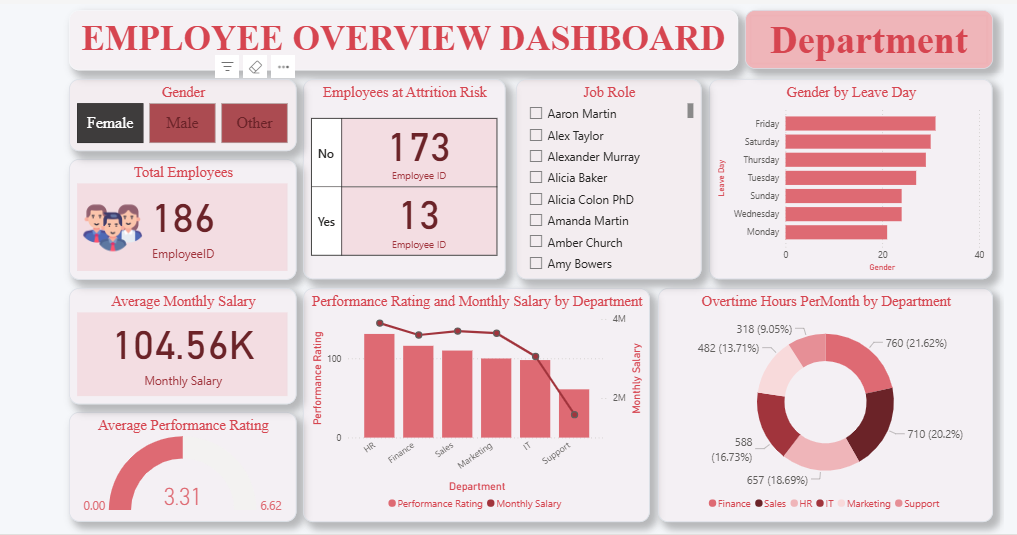

Layout of this report page (visuals, bound fields, positions):
{"tool":"powerbi","page":{"name":"Home","canvas":[1280,720],"ordinal":0},"visuals":[{"type":"textbox","box":[10.2,8.8,908.8,82],"z":0},{"type":"cardVisual","title":"Total Employees","fields":{"Data":["Count(employee_performance_pro.EmployeeID)"]},"box":[10.2,210.7,308.8,163.9],"z":1000},{"type":"gauge","title":"Average Performance Rating","fields":{"Y":["Avg(employee_performance_pro.PerformanceRating)"]},"box":[10.2,554.6,308.8,149.3],"z":2000},{"type":"cardVisual","title":"Average Monthly Salary","fields":{"Data":["Avg(employee_performance_pro.MonthlySalary)"]},"box":[10.2,385.3,308.8,158],"z":3000},{"type":"cardVisual","title":"Employees at Attrition Risk","fields":{"Data":["Count(employee_performance_pro.EmployeeID)"],"Rows":["employee_performance_pro.AttritionRisk"]},"box":[329.3,102.4,275.1,272.2],"z":4000},{"type":"actionButton","box":[929.3,8.8,336.6,80.5],"z":5000},{"type":"advancedSlicerVisual","fields":{"Values":["employee_performance_pro.Gender"]},"box":[10.2,102.4,308.8,98],"z":6000},{"type":"image","box":[23.4,257.6,93.7,92.2],"z":7000},{"type":"lineClusteredColumnComboChart","fields":{"Category":["employee_performance_pro.Department"],"Y2":["Sum(employee_performance_pro.MonthlySalary)"],"Y":["Sum(employee_performance_pro.PerformanceRating)"]},"box":[329.3,386.3,471.2,317.6],"z":8000},{"type":"donutChart","fields":{"Y":["Sum(employee_performance_pro.OvertimeHoursPerMonth)"],"Category":["employee_performance_pro.Department"]},"box":[810.7,386.3,455.1,317.6],"z":9000},{"type":"clusteredBarChart","fields":{"Category":["employee_performance_pro.LeaveDayName"],"Y":["CountNonNull(employee_performance_pro.Gender)"]},"box":[881,102.4,384.9,272.2],"z":10000},{"type":"slicer","title":"Job Role","fields":{"Values":["employee_performance_pro.Name"]},"box":[617.6,102.4,251.7,272.2],"z":11000}]}

Visuals, with their boxes on the page's 1280x720 design canvas (x1, y1, x2, y2). These are canvas units, not pixel positions in the 1017x535 screenshot, which may show the page scaled, cropped or inside an application window:
textbox: 10:9:919:91
"Total Employees" cardVisual: 10:211:319:375
"Average Performance Rating" gauge: 10:555:319:704
"Average Monthly Salary" cardVisual: 10:385:319:543
"Employees at Attrition Risk" cardVisual: 329:102:604:375
actionButton: 929:9:1266:89
advancedSlicerVisual - employee_performance_pro.Gender: 10:102:319:200
image: 23:258:117:350
lineClusteredColumnComboChart - employee_performance_pro.Department x Sum(employee_performance_pro.MonthlySalary): 329:386:800:704
donutChart - Sum(employee_performance_pro.OvertimeHoursPerMonth) x employee_performance_pro.Department: 811:386:1266:704
clusteredBarChart - employee_performance_pro.LeaveDayName x CountNonNull(employee_performance_pro.Gender): 881:102:1266:375
"Job Role" slicer: 618:102:869:375
